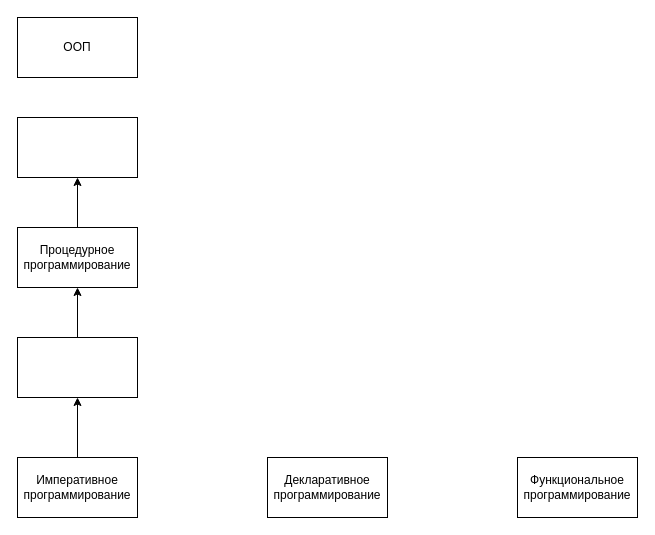
The diagram is 655 pixels wide and 535 high, and some of its shapes have lost their labels. Each missing label, with the centre of its shape:
Модульное программирование: (x=77, y=147)
Структурное программирование: (x=77, y=367)
